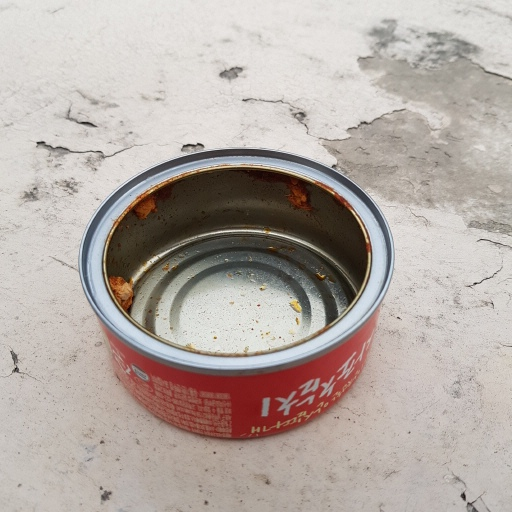Metal_1: (75, 149, 394, 438)
